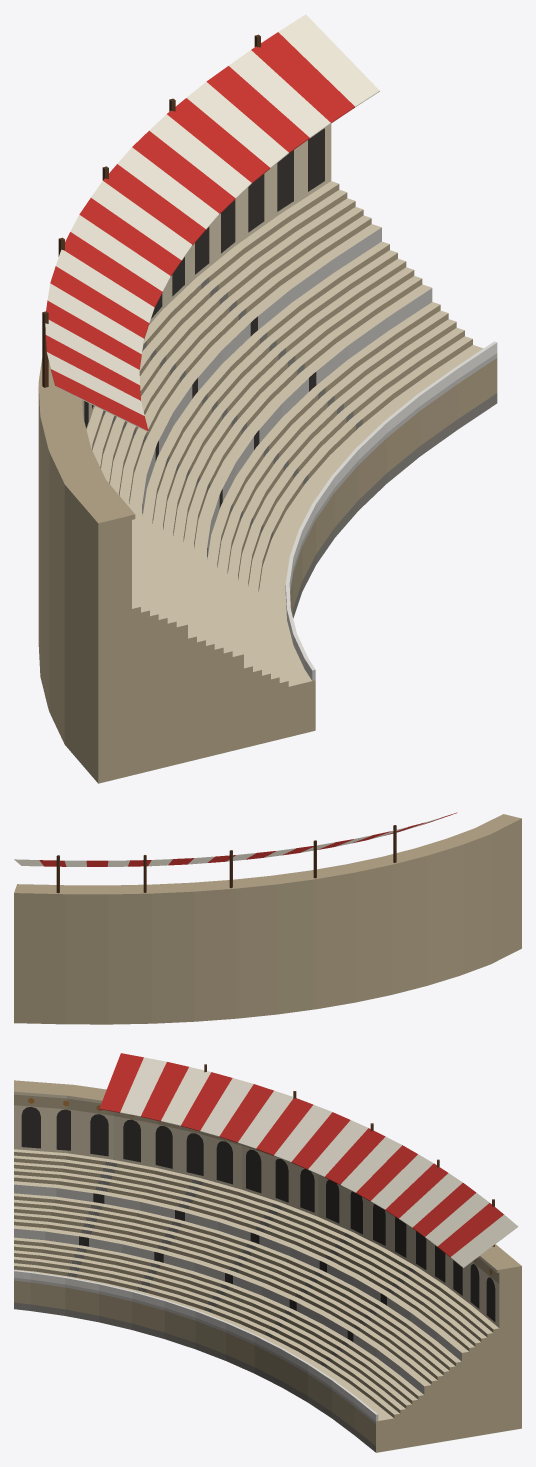
File: SM_ColCavea_2.fbx
3 views of the same model, one above another, from view 1: azimuth 30°, elevation 25°; view 2: azimuth 150°, elevation 25°; view 3: azimuth 270°, elevation 25° (orthographic). The views are drawn at different scales.
Visible parts, largest first — view 1: SM_ColCavea_2; view 2: SM_ColCavea_2; view 3: SM_ColCavea_2.
Boxes of the visible parts, x1,y1,x2,y2 form: SM_ColCavea_2: [38, 14, 497, 783]; SM_ColCavea_2: [14, 812, 521, 1024]; SM_ColCavea_2: [14, 1053, 521, 1452].
Size of the model in its own units: 61.49 by 62.87 by 28.5.
